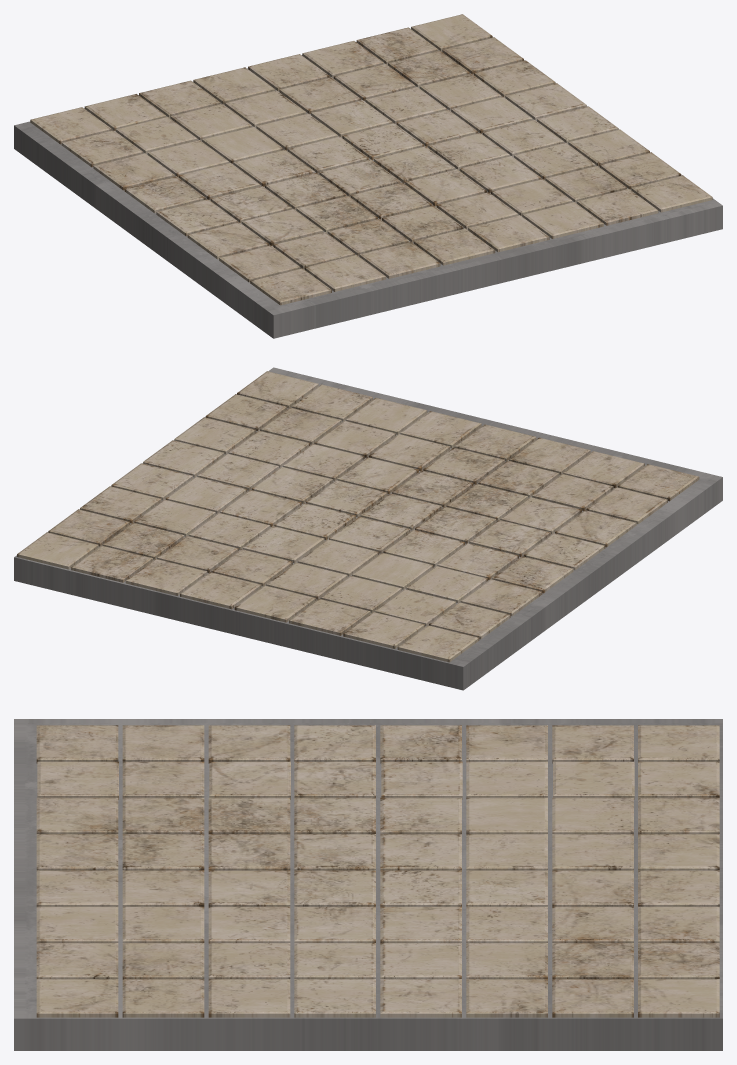
The model's file is Floor Tiled.fbx.
The picture shows the model from 3 angles, top to bottom: view 1: azimuth 30°, elevation 25°; view 2: azimuth 150°, elevation 25°; view 3: azimuth 270°, elevation 25°; orthographic projection. The views are drawn at different scales.
Visible parts, largest first — view 1: Floor Tile Tiles, Floor Tiled; view 2: Floor Tile Tiles, Floor Tiled; view 3: Floor Tile Tiles, Floor Tiled.
Part boxes in pixels (x1=…): Floor Tile Tiles: x1=30, y1=14, x2=712, y2=305; Floor Tiled: x1=14, y1=28, x2=722, y2=338; Floor Tile Tiles: x1=17, y1=371, x2=699, y2=662; Floor Tiled: x1=14, y1=367, x2=722, y2=690; Floor Tile Tiles: x1=36, y1=725, x2=719, y2=1017; Floor Tiled: x1=14, y1=719, x2=722, y2=1050.
Size of the model in its own units: 4 by 4 by 0.2295.
